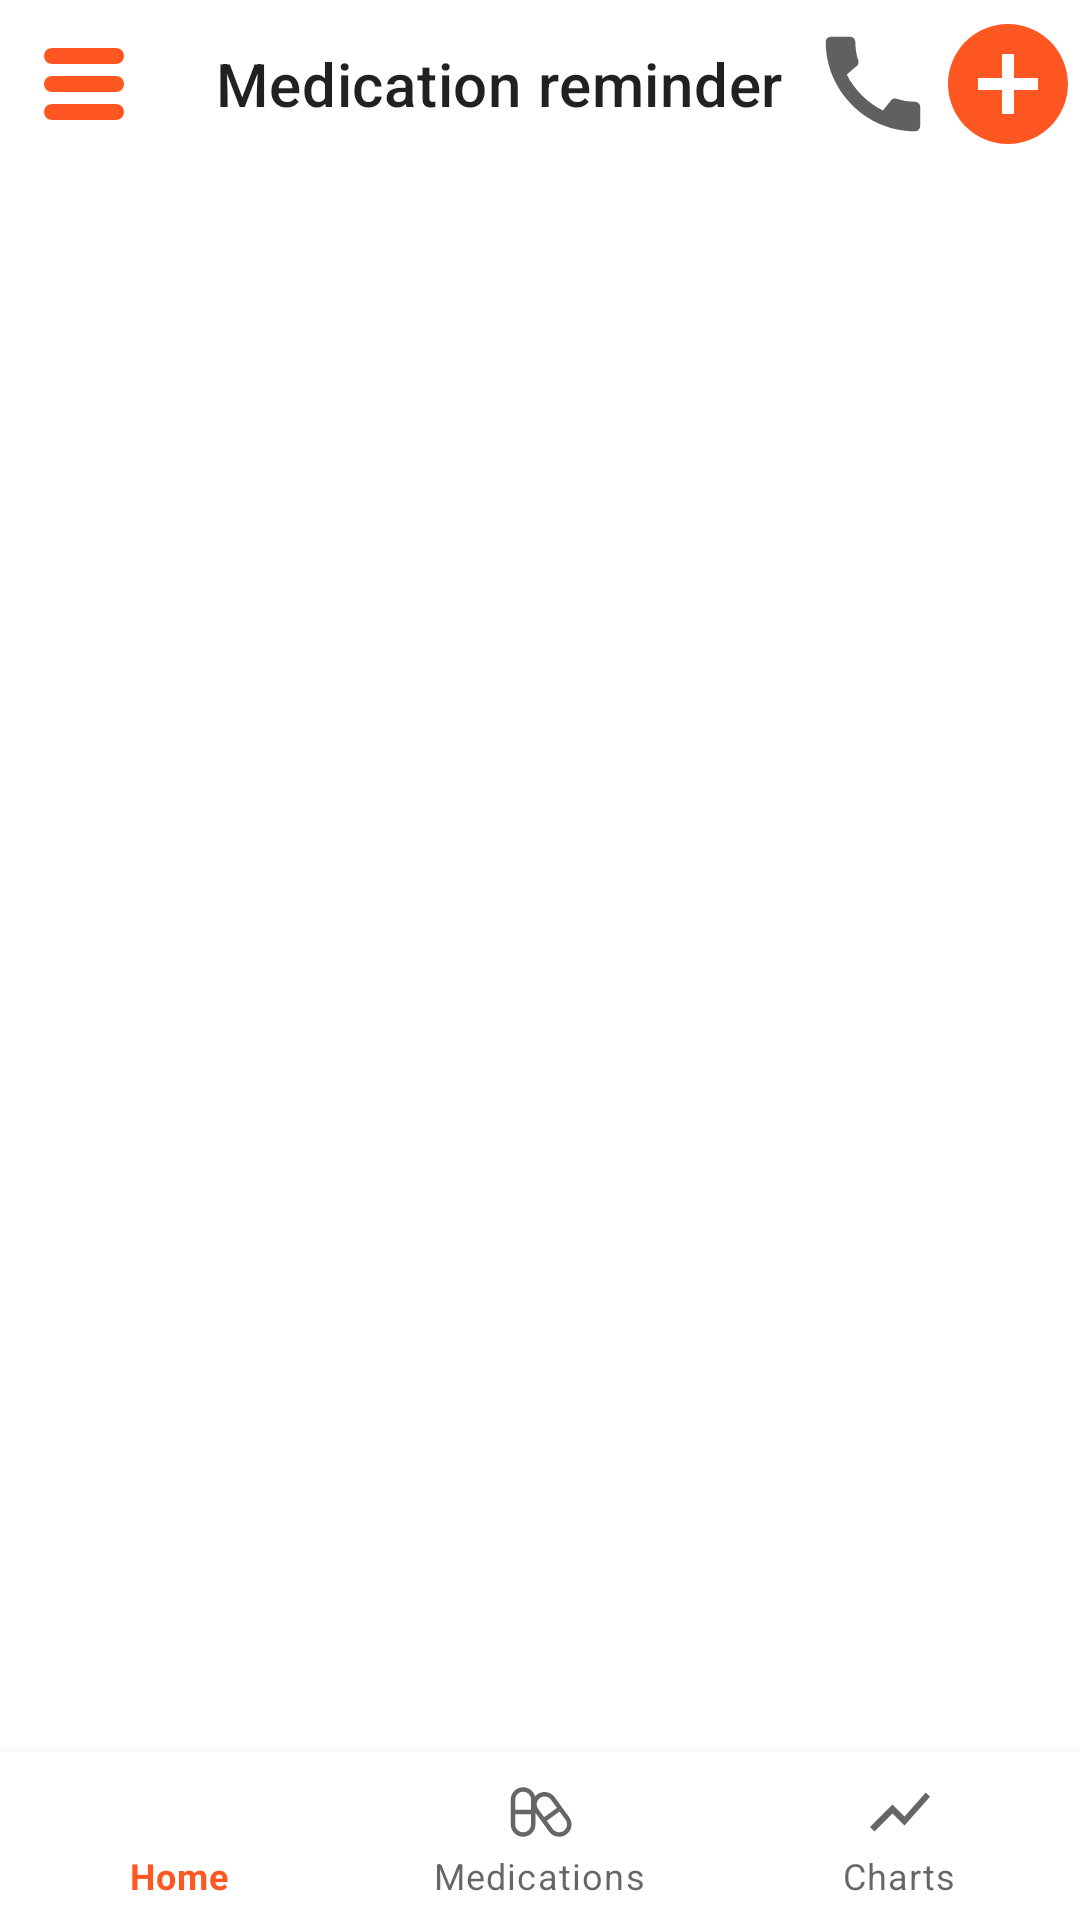

Where to tap for icons on this 1080 × 1920 app screen, as point (x, y):
add: point (1008, 84)
call: point (873, 84)
